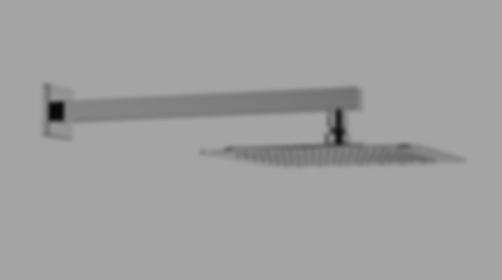Ducha: (27, 62, 476, 188)
